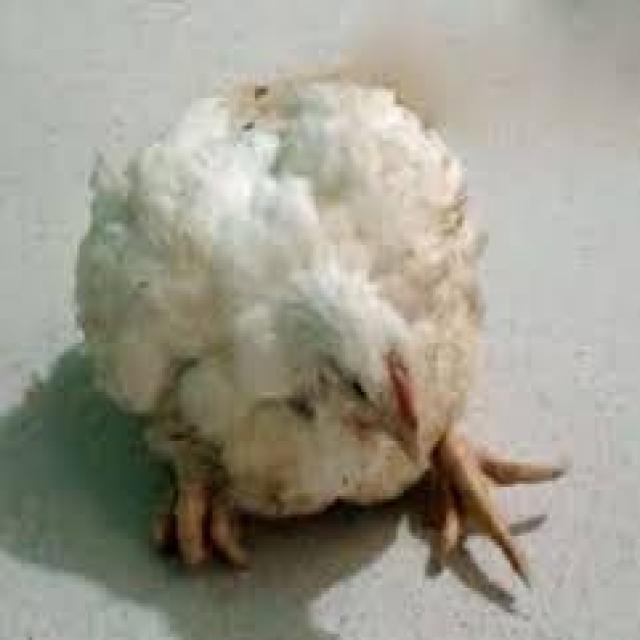AbNormal: (75, 76, 562, 603)
